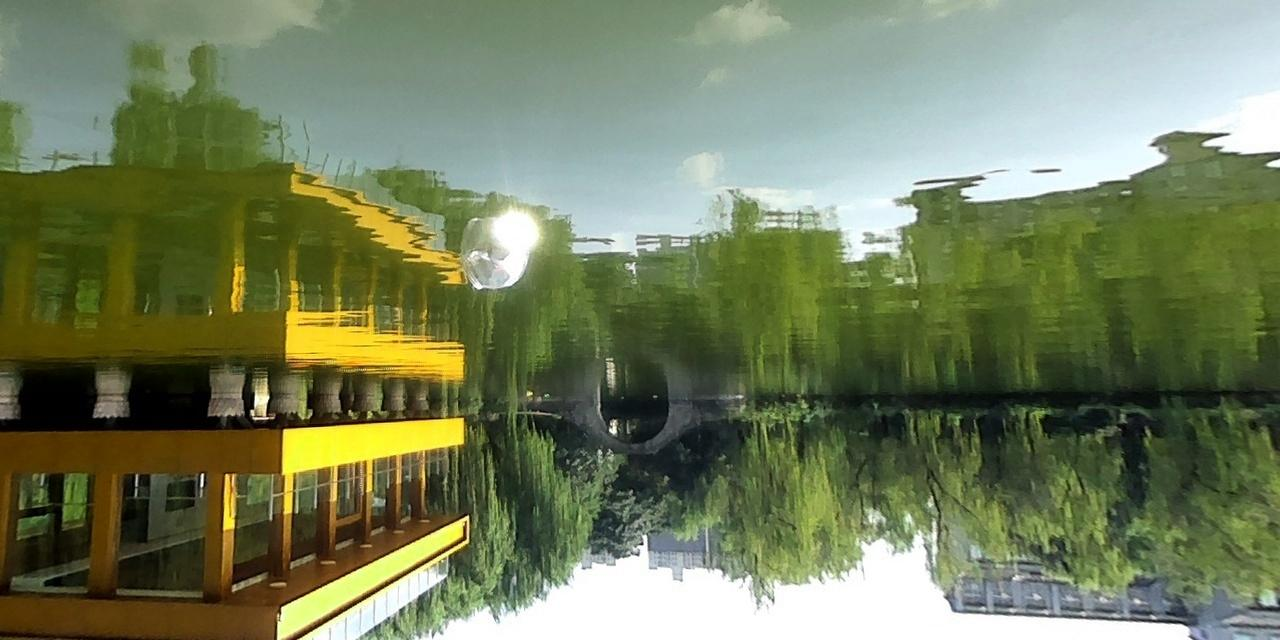Plastic: (457, 240, 533, 294)
